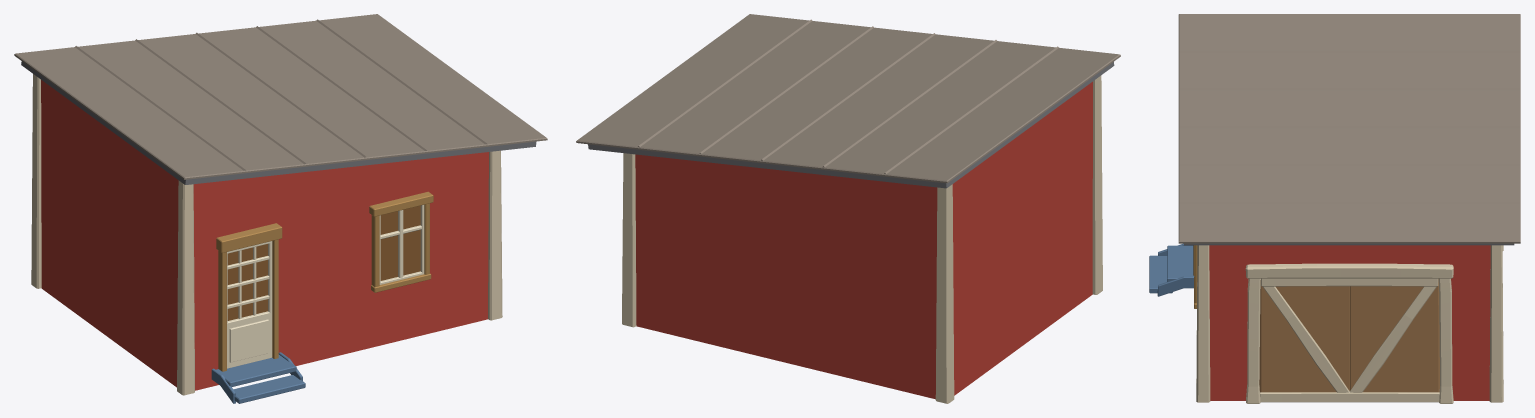
File: garage_a03.gltf
3 renders of one model, left to right at view 1: azimuth 30°, elevation 25°; view 2: azimuth 150°, elevation 25°; view 3: azimuth 270°, elevation 25°, orthographic. The views are drawn at different scales.
Visible parts, largest first — view 1: Box1972, Shape033, Box1980, Box1973, Plane073, garage_a03_001, Shape032, Box1975; view 2: Box1972, Shape033, Box1980, Shape032; view 3: Shape033, Box1980, garage_a03_001, Box1972, Box1975, Shape032.
Part boxes in pixels (x1,y1,x2,y2): Box1972: [41, 80, 488, 390]; Shape033: [14, 14, 547, 179]; Box1980: [31, 74, 502, 395]; Box1973: [216, 191, 433, 371]; Plane073: [227, 205, 424, 368]; garage_a03_001: [227, 205, 420, 320]; Shape032: [21, 61, 536, 184]; Box1975: [211, 352, 305, 403]; Box1972: [635, 81, 1092, 399]; Shape033: [576, 14, 1120, 183]; Box1980: [622, 75, 1102, 403]; Shape032: [588, 62, 1114, 188]; Shape033: [1178, 14, 1520, 243]; Box1980: [1196, 245, 1503, 403]; garage_a03_001: [1259, 279, 1439, 392]; Box1972: [1209, 245, 1490, 400]; Box1975: [1149, 243, 1194, 296]; Shape032: [1184, 243, 1514, 245].
Size of the model in its own units: 7.57 by 4.54 by 6.65.
1 material, 1 textured.
